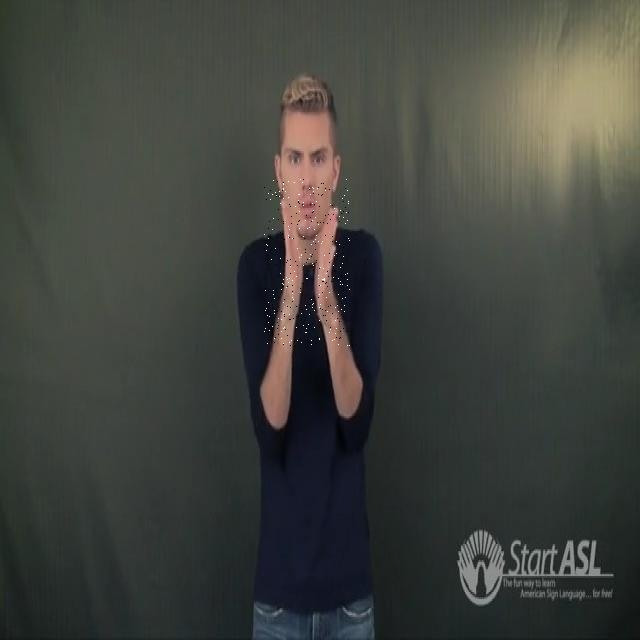small: (264, 179, 350, 346)
